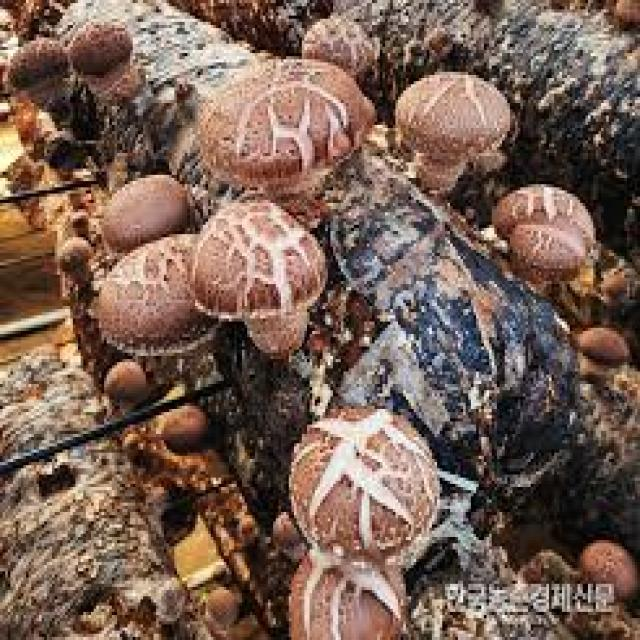mushroom: (188, 50, 378, 203), (284, 393, 442, 565), (187, 197, 323, 340), (398, 72, 513, 197), (494, 184, 598, 293)
